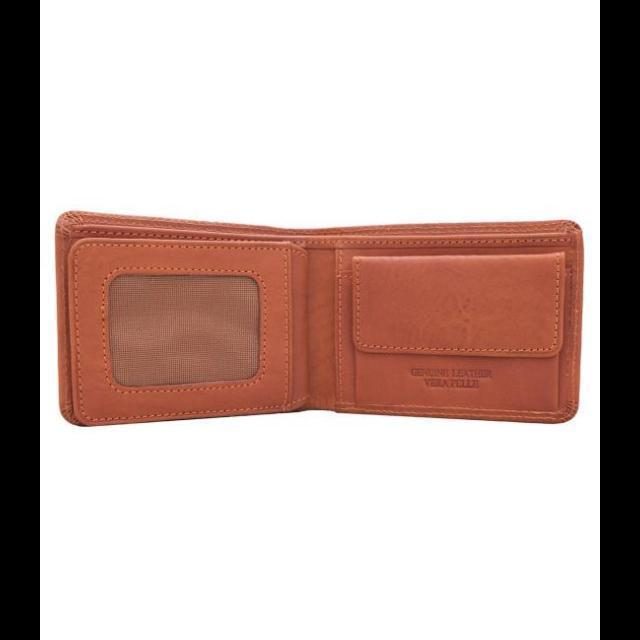wallet: (51, 204, 585, 433)
